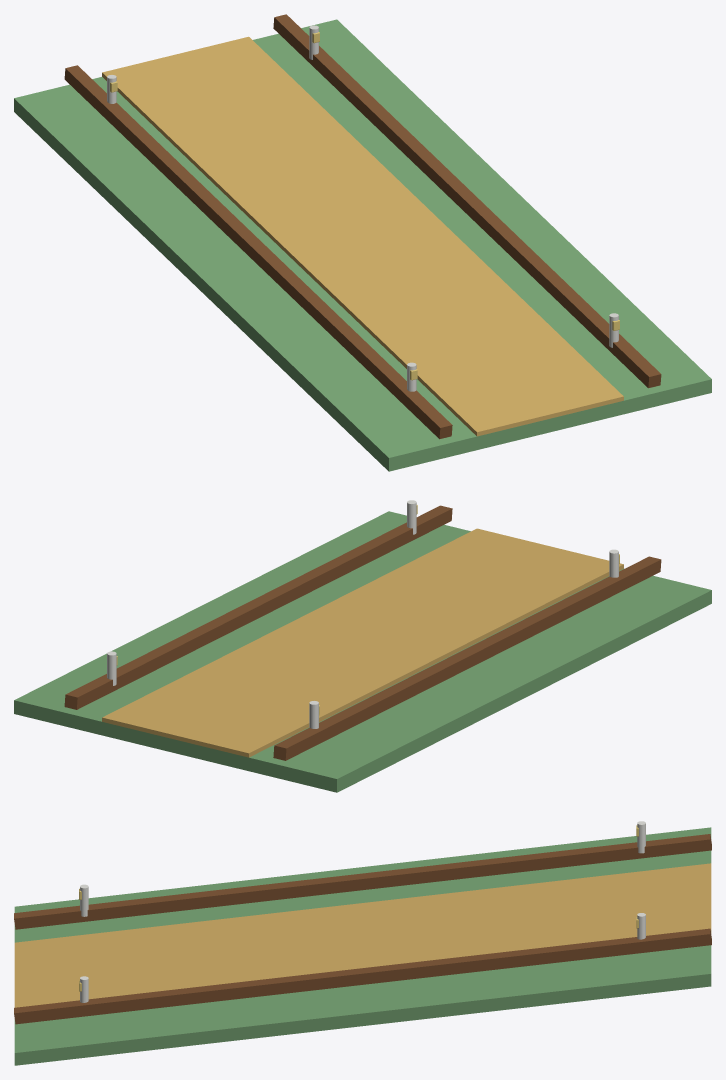
Rendered from ROAD_DIRT_SLOPE_1x2_UP_050.glb.
3 renders of one model, top to bottom at view 1: azimuth 30°, elevation 25°; view 2: azimuth 150°, elevation 25°; view 3: azimuth 270°, elevation 25°, orthographic. The views are drawn at different scales.
Parts seen in each view (by area): view 1: ROAD_DIRT_SLOPE_1x2_UP_050_Visual; view 2: ROAD_DIRT_SLOPE_1x2_UP_050_Visual; view 3: ROAD_DIRT_SLOPE_1x2_UP_050_Visual.
Boxes of the visible parts, box(x1,y1,x2,y2) form: ROAD_DIRT_SLOPE_1x2_UP_050_Visual: box(14, 14, 711, 471); ROAD_DIRT_SLOPE_1x2_UP_050_Visual: box(14, 500, 711, 792); ROAD_DIRT_SLOPE_1x2_UP_050_Visual: box(14, 821, 711, 1065).
Size of what is drawn, in the model's own units: 1.98 by 0.78 by 3.99.
